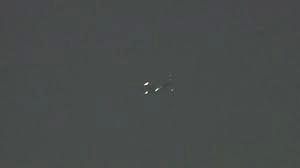Plane: (138, 73, 181, 98)
